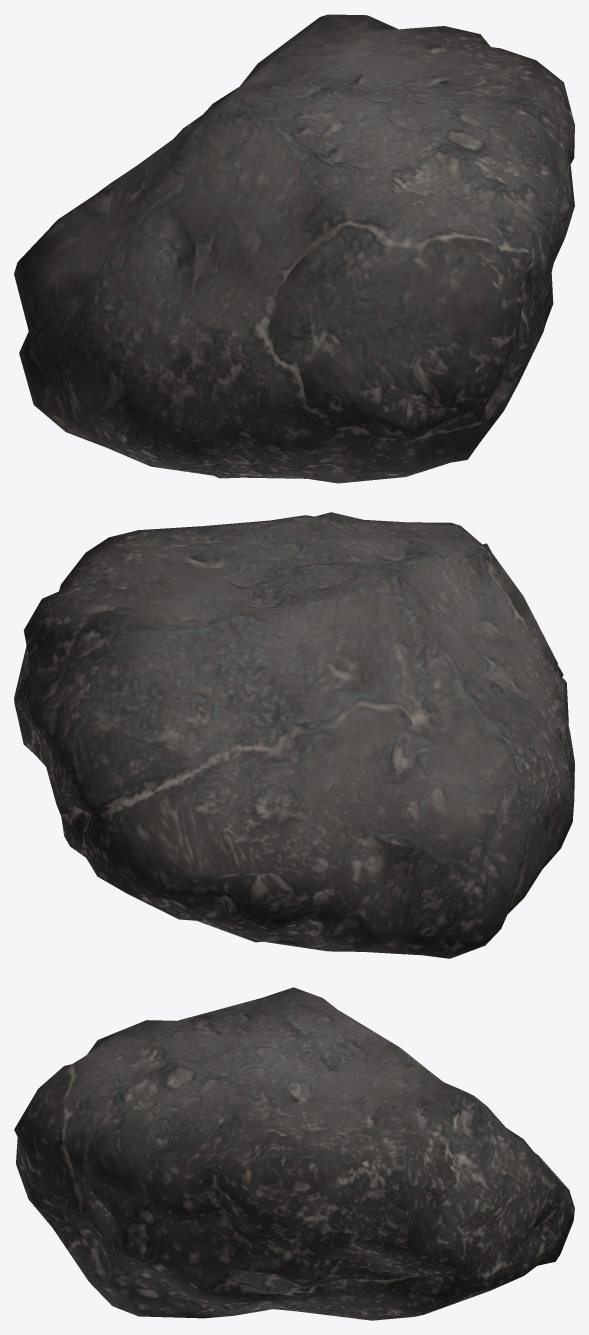
File: Rock_medium_04_GREY.fbx
3 renders of one model, top to bottom at view 1: azimuth 30°, elevation 25°; view 2: azimuth 150°, elevation 25°; view 3: azimuth 270°, elevation 25°, orthographic. The views are drawn at different scales.
Visible parts, largest first — view 1: Rock_medium_04_GREY; view 2: Rock_medium_04_GREY; view 3: Rock_medium_04_GREY.
Boxes of the visible parts, x1,y1,x2,y2 form: Rock_medium_04_GREY: [14, 14, 574, 483]; Rock_medium_04_GREY: [14, 512, 574, 958]; Rock_medium_04_GREY: [14, 987, 574, 1320].
Bounding box in the file's own units: 0.4599 × 0.309 × 0.5369.
Materials: 1 (1 with a texture image).
